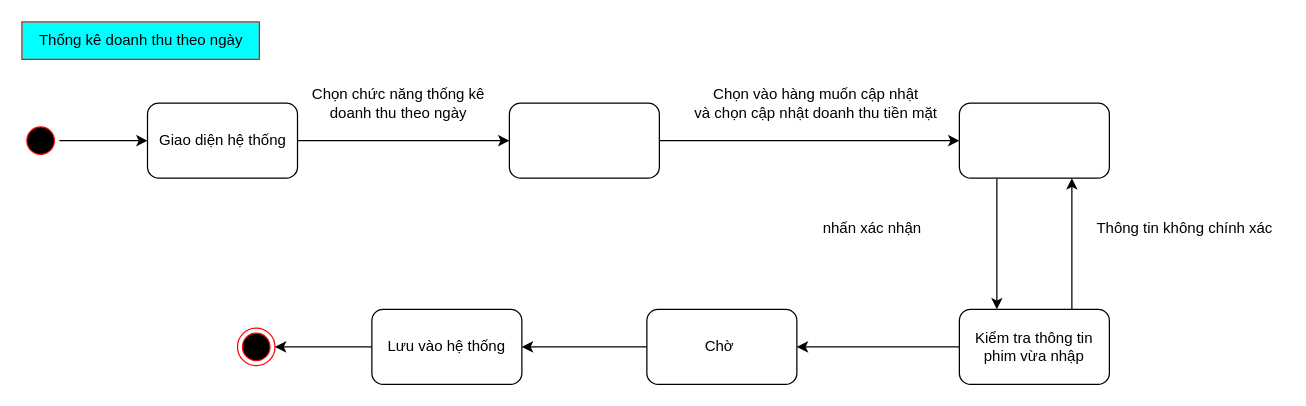
Some shapes in this 1306 by 406 pixel diagram are drawn without their labels. The shapes that lost their labels are listed below. From the top down, each one's centre as x and y in pixels, then its label:
At (x=583, y=140): "Hiển thị danh sách các nhân viên và số tiền đã chốt sổ trong ngày".
At (x=1033, y=140): "Nhân viên nhập doanh thu tiền mặt tương ứng".
